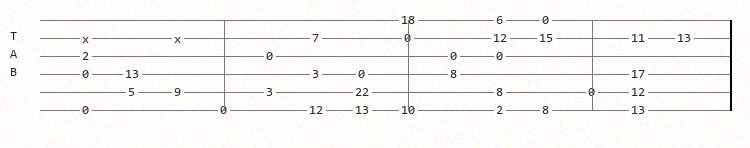0: (82, 68, 93, 80), (82, 104, 93, 116), (220, 104, 231, 116), (266, 50, 277, 62), (358, 68, 369, 80), (404, 32, 415, 44), (450, 50, 461, 62), (496, 50, 507, 62), (542, 14, 553, 26), (588, 86, 599, 98)
10: (401, 104, 419, 116)
11: (631, 32, 649, 44)
12: (309, 104, 327, 116), (493, 32, 511, 44), (631, 86, 649, 98)
13: (125, 68, 143, 80), (355, 104, 373, 116), (631, 104, 649, 116), (677, 32, 695, 44)
15: (539, 32, 557, 44)
17: (631, 68, 649, 80)
18: (401, 14, 419, 26)
2: (82, 50, 93, 62), (496, 104, 507, 116)
22: (355, 86, 373, 98)
3: (266, 86, 277, 98), (312, 68, 323, 80)
5: (128, 86, 139, 98)
6: (496, 14, 507, 26)
7: (312, 32, 323, 44)
8: (450, 68, 461, 80), (496, 86, 507, 98), (542, 104, 553, 116)
9: (174, 86, 185, 98)
x: (82, 33, 93, 43), (174, 33, 185, 43)
